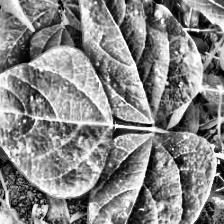Bean Rust: (0, 48, 117, 194), (73, 0, 209, 116), (87, 130, 213, 224), (163, 0, 224, 58)
